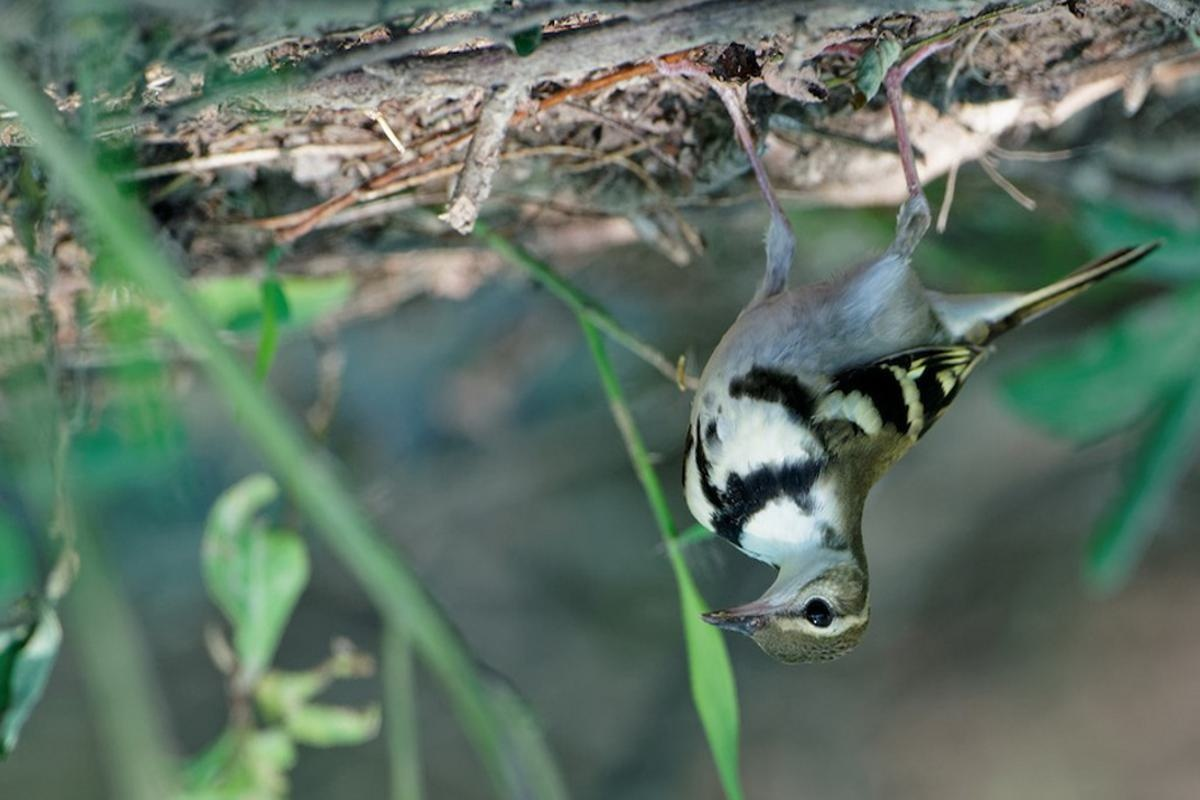wagtail: (661, 154, 1101, 684)
